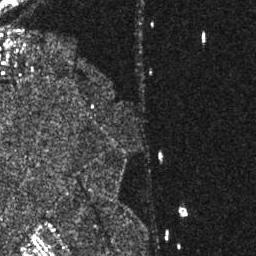ship: (179, 205, 188, 217), (157, 149, 164, 163), (164, 227, 170, 241), (201, 30, 207, 43)
